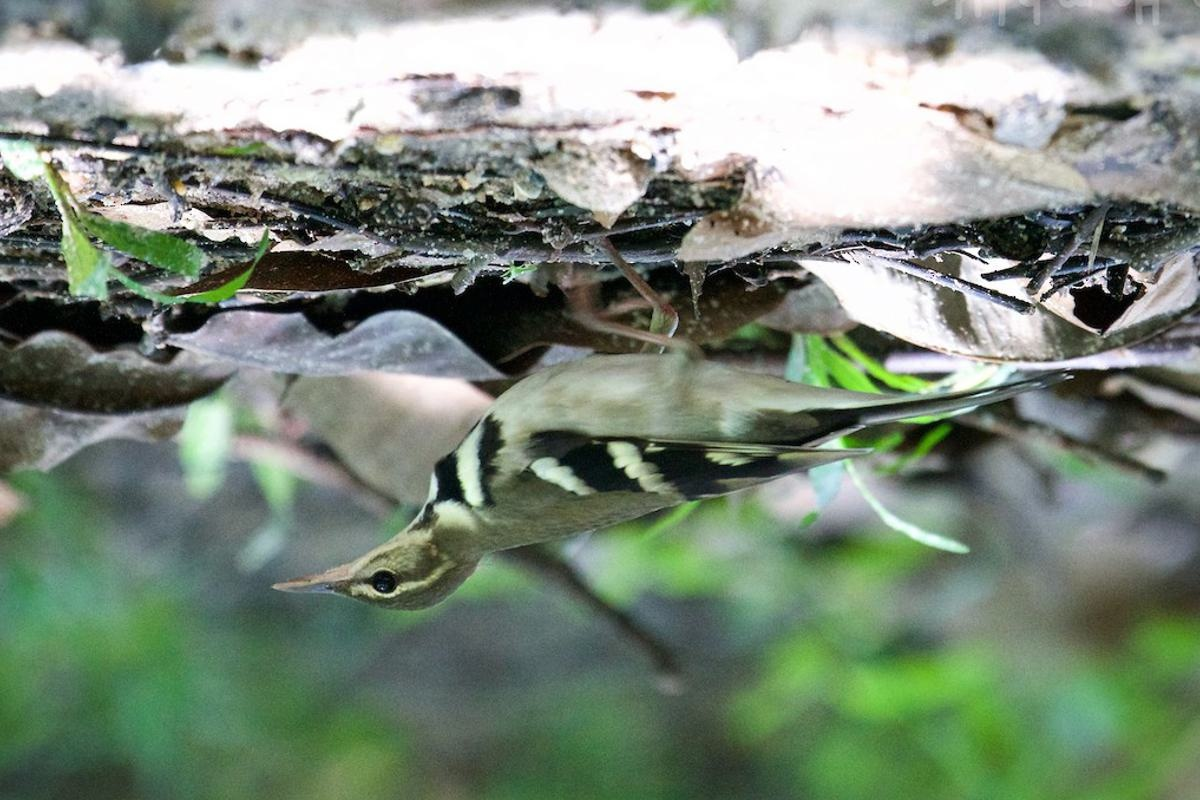wagtail: (276, 261, 1057, 624)
